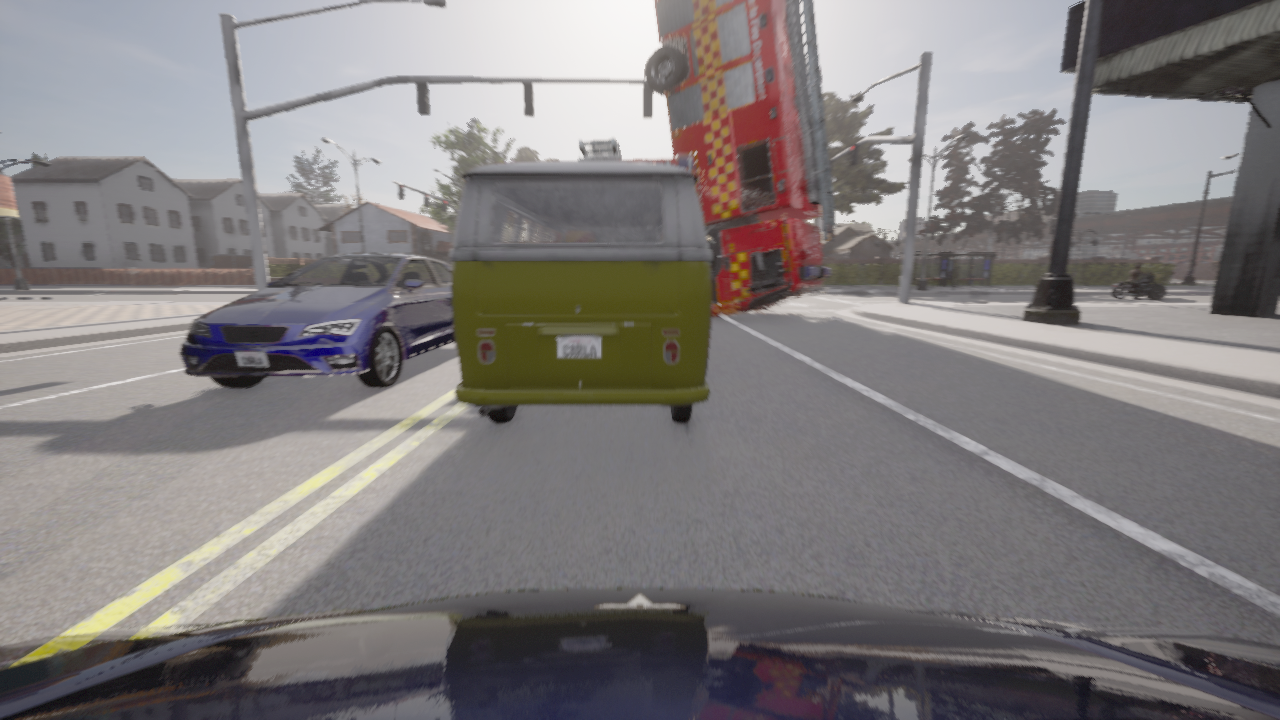cyclist: (0, 588, 1279, 719), (449, 161, 711, 423), (645, 0, 835, 317), (180, 253, 454, 388), (578, 137, 696, 190), (1110, 275, 1165, 299)
pedestrian: (970, 279, 972, 284)
